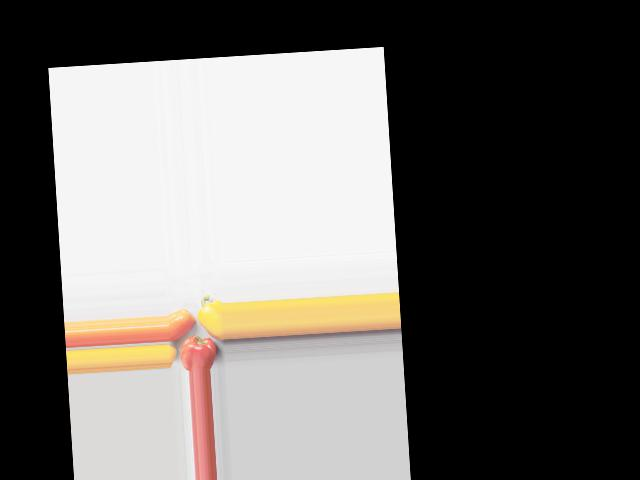bell_pepper: (179, 333, 219, 370)
